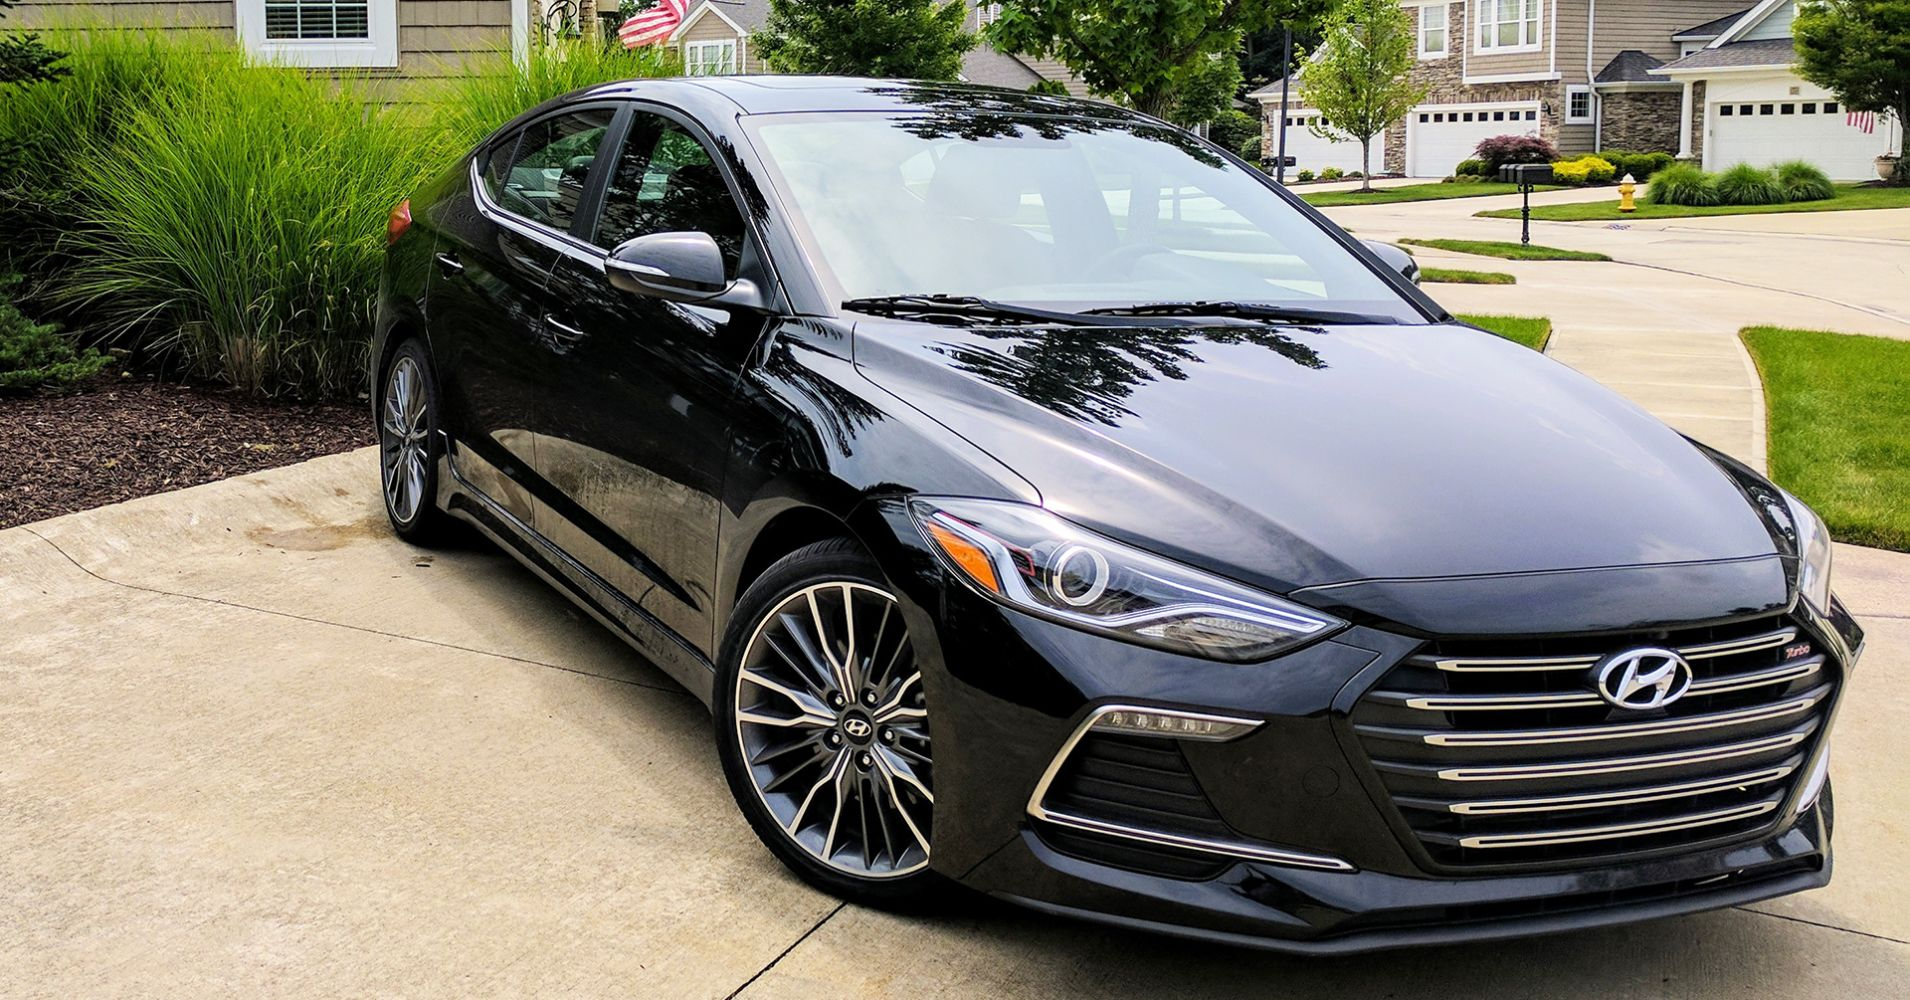elantra: (333, 53, 1883, 1000)
